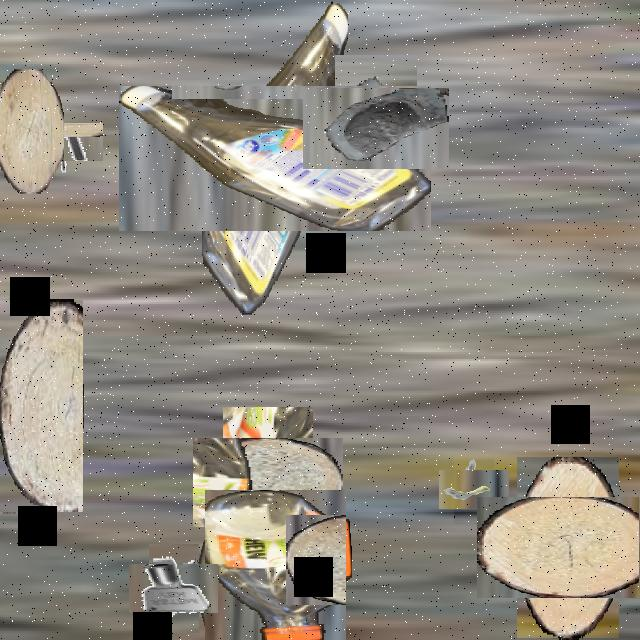glass: (319, 71, 433, 185)
metal: (139, 554, 209, 623), (446, 461, 502, 517), (42, 116, 96, 168)
plastic: (160, 43, 390, 273), (201, 493, 349, 640)
wood: (497, 477, 639, 618), (0, 299, 83, 512), (208, 422, 328, 542), (0, 69, 64, 194)
